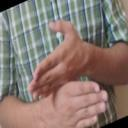hand: (28, 21, 87, 96), (42, 81, 111, 128)
